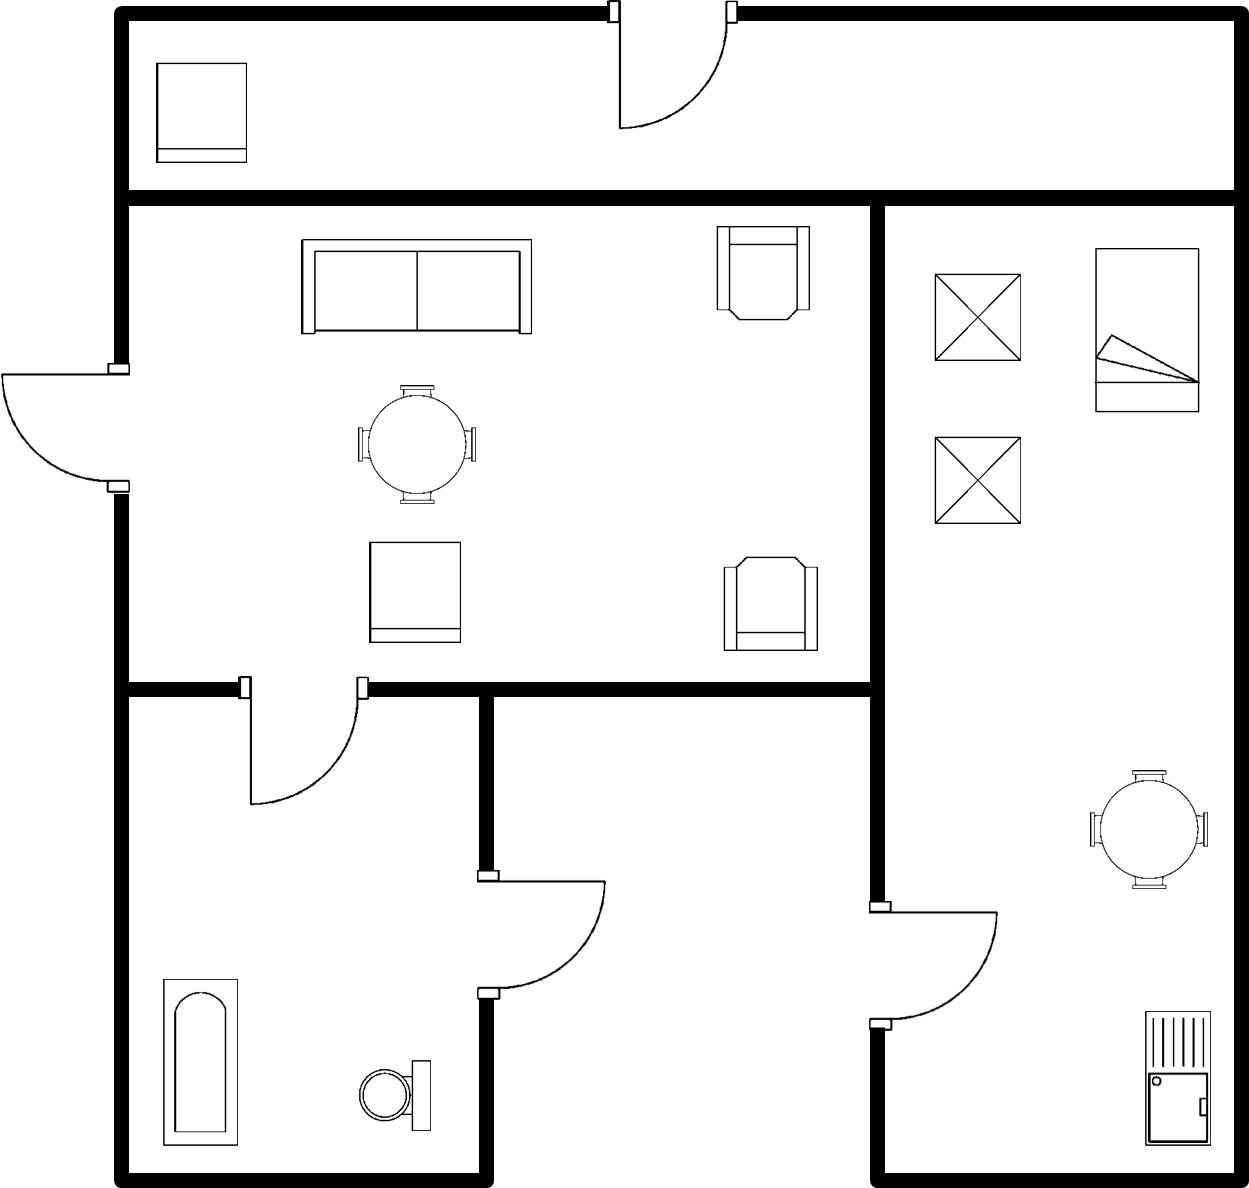armchair: (716, 546, 825, 659), (707, 220, 818, 330)
bed: (1086, 240, 1211, 421)
coffee_table: (928, 430, 1033, 542), (925, 262, 1028, 373)
large_sink: (351, 1054, 444, 1137)
large_sofa: (294, 231, 538, 346)
round_table: (346, 377, 490, 518), (1085, 760, 1215, 900)
sink: (1135, 1003, 1219, 1154)
small_sofa: (361, 535, 469, 650), (150, 55, 257, 171)
tub: (154, 974, 249, 1157)
